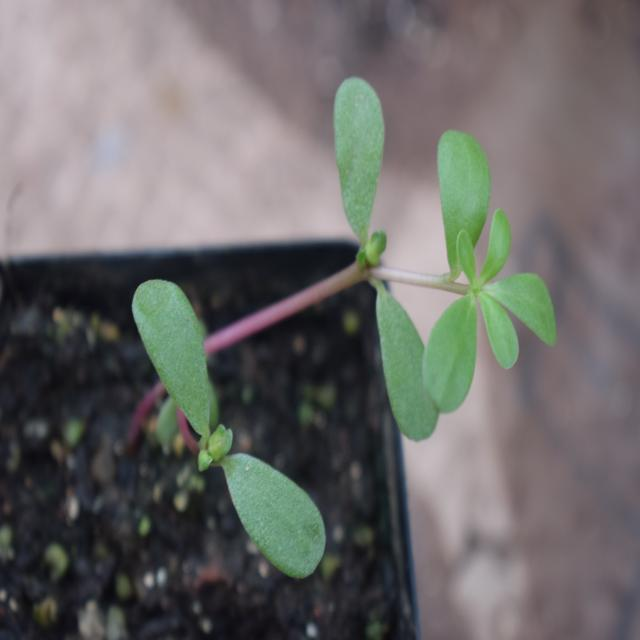purslane: (132, 76, 561, 569)
